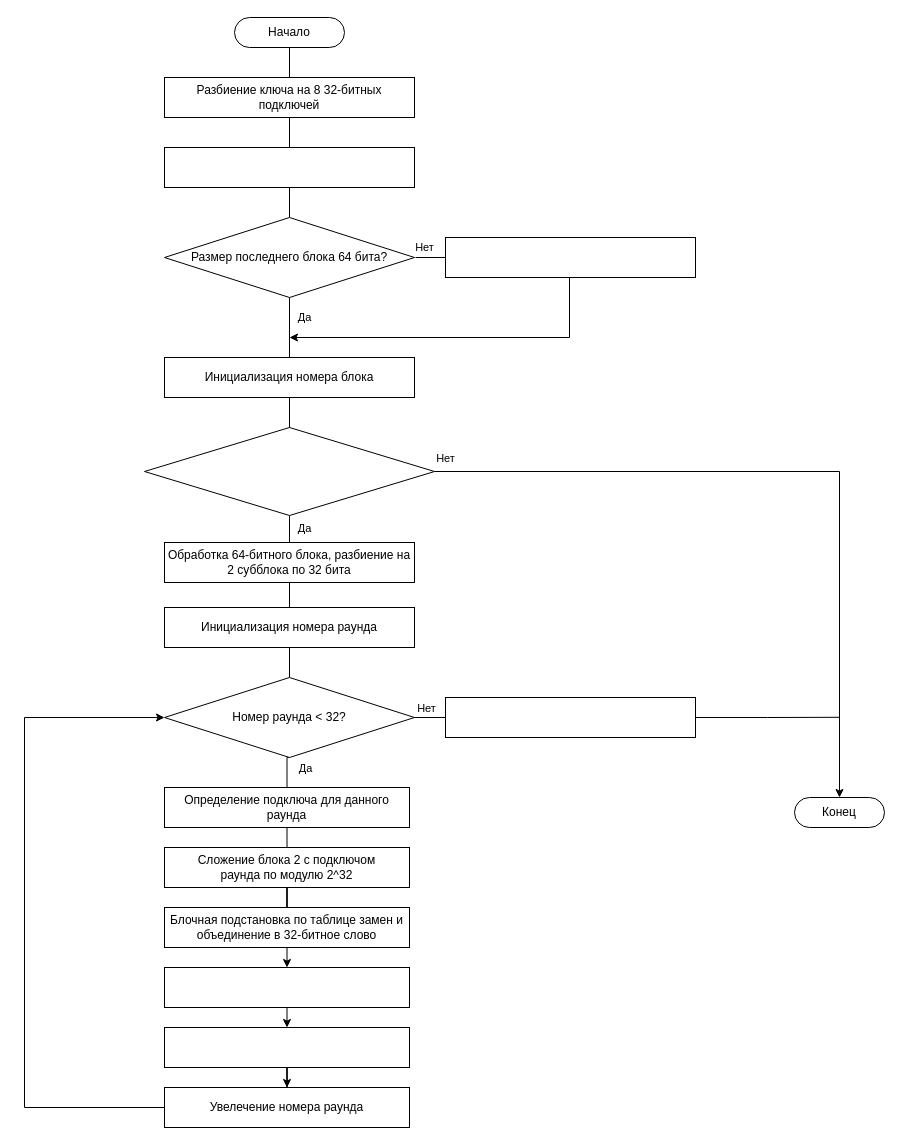
Image size: 902x1145. Some labels were removed from this diagram. Here are the shapes that lost their labels. From the top down, the centre of each, then its label:
At (289,167): "Разбиение текста на 64-битные блоки".
At (570,257): "Дополнение последнего блока байтами заполнения до 64 бит".
At (289,471): "Номер блока меньше общего числа блоков?".
At (570,717): "Объединение зашифрованных блоков с обменом позиций субблоков".
At (287,987): "Циклический сдвиг влево на 11 бит. Выполнение XOR с блоком 1.".
At (287,1047): "Блок 1 = старое значение блока 2".
